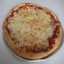pizza: (2, 3, 62, 59)
